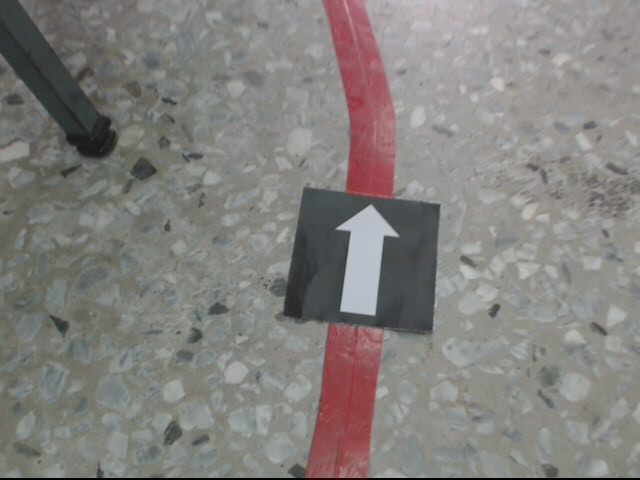straight: (283, 184, 437, 333)
